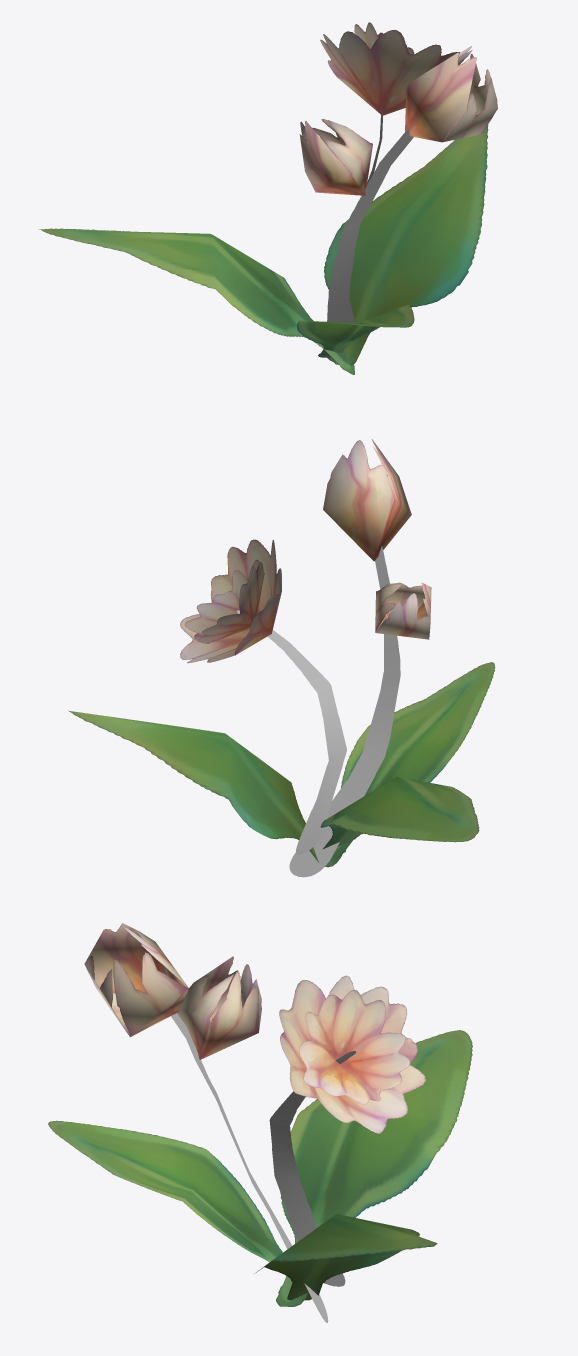
Rendered from geo_flower_02.fbx.
3 views of the same model, one above another, from view 1: azimuth 30°, elevation 25°; view 2: azimuth 150°, elevation 25°; view 3: azimuth 270°, elevation 25° (orthographic). The views are drawn at different scales.
Parts seen in each view (by area): view 1: Plane.037; view 2: Plane.037; view 3: Plane.037.
Part boxes in pixels (x1,y1,x2,y2): Plane.037: (38,22,497,374); Plane.037: (68,439,495,877); Plane.037: (48,923,472,1322).
Size of the model in its own units: 2.59 by 1.84 by 2.15.
